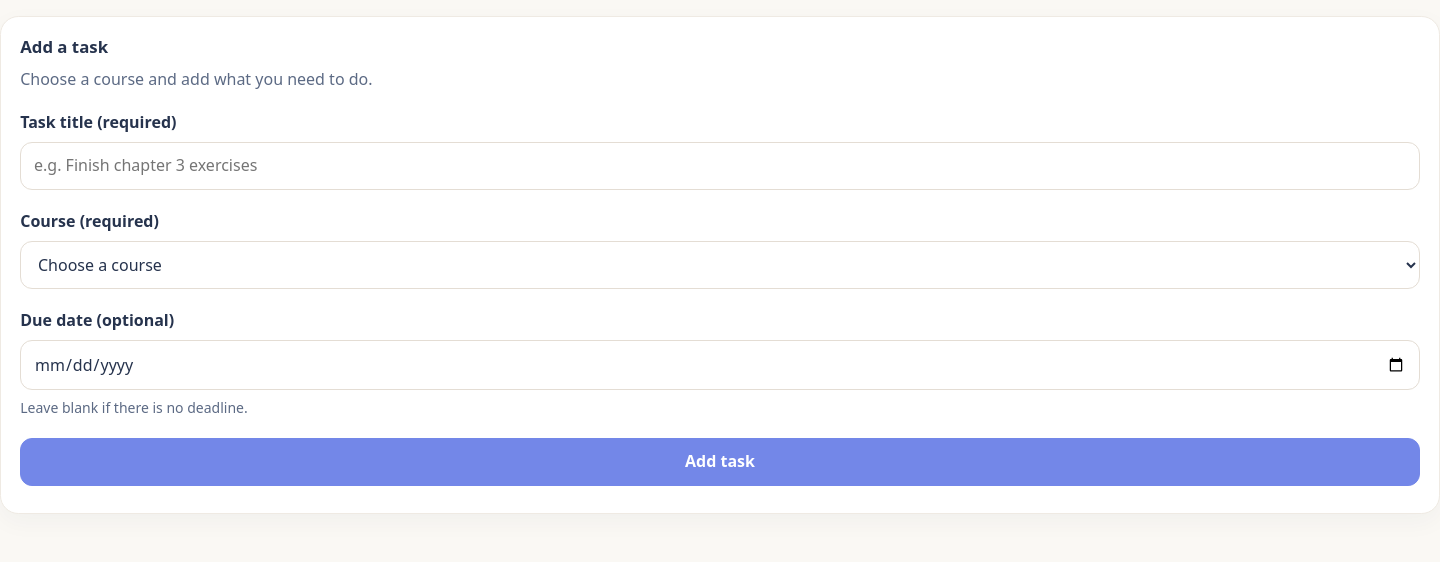
Test case: To-Do creation form › rejects an empty or whitespace-only title:
The width and height of the screenshot is (1440, 562).
Select "Algorithms" in the dropdown labelled "Course (required)" at (720, 265), box [20,241,1420,289]
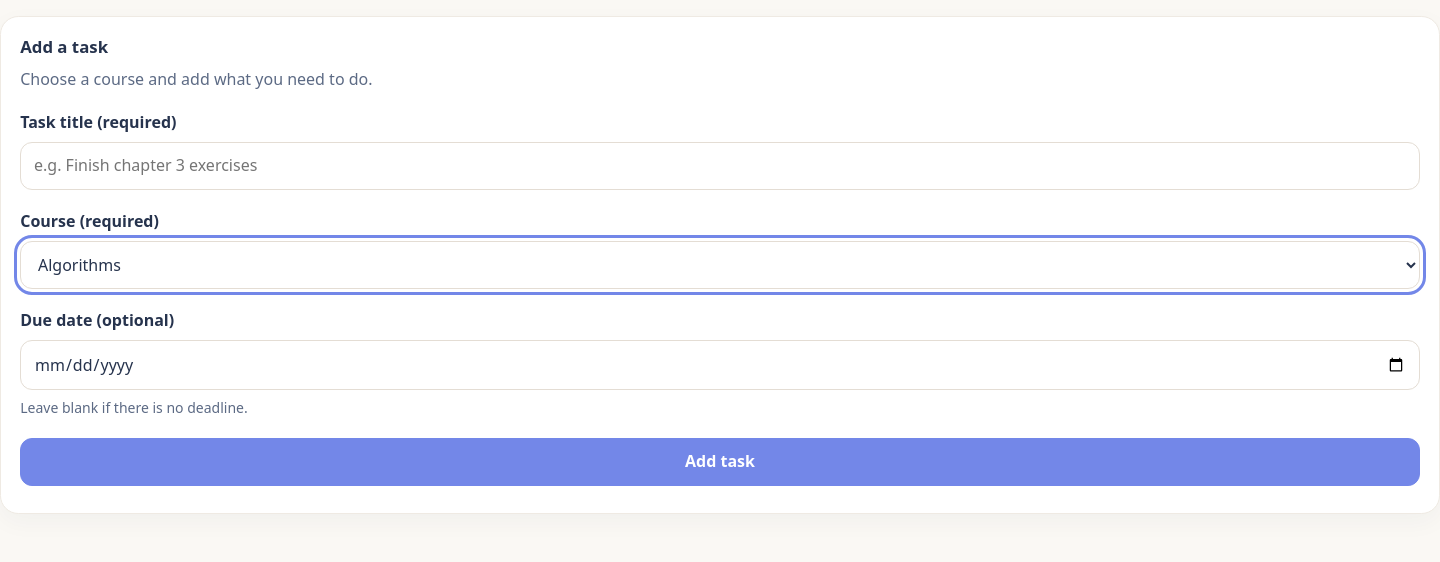
Click the button "Add task" at (720, 462), box [20,438,1420,486]
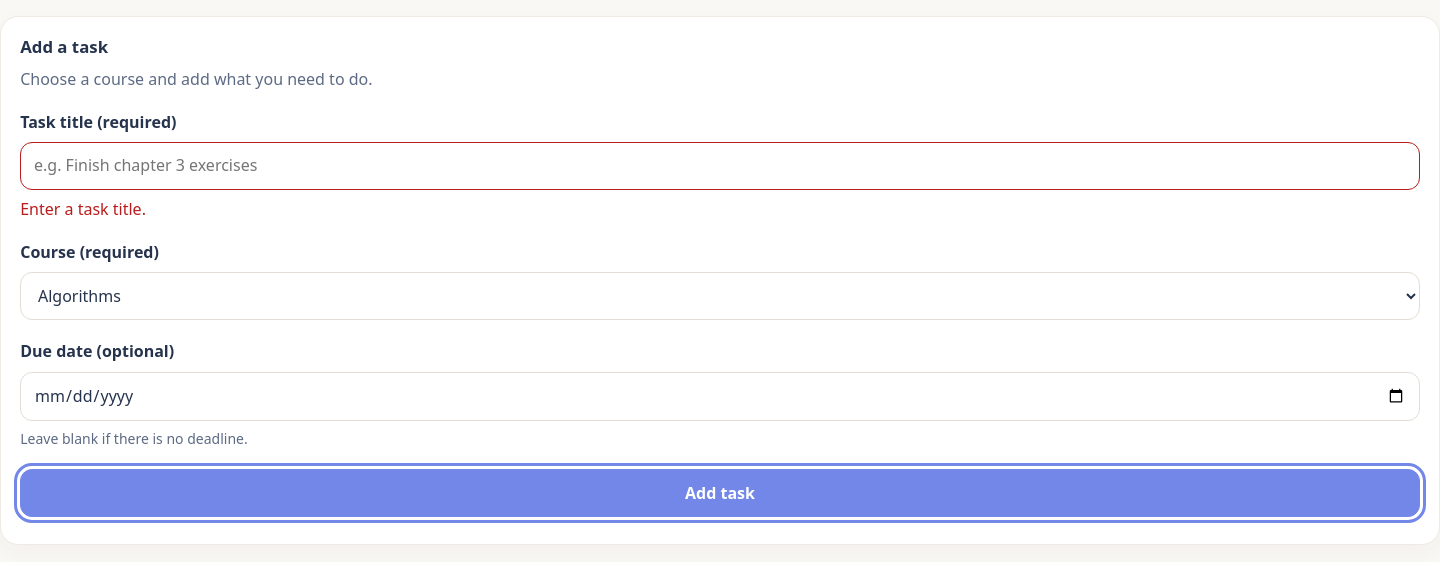
Expected: the message reads "Enter a task title.", [20,198,146,220]
